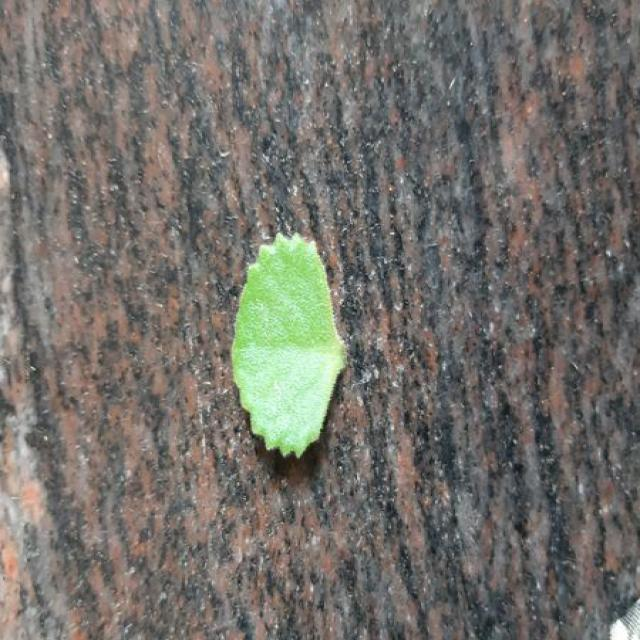doddpathre: (232, 234, 347, 457)
